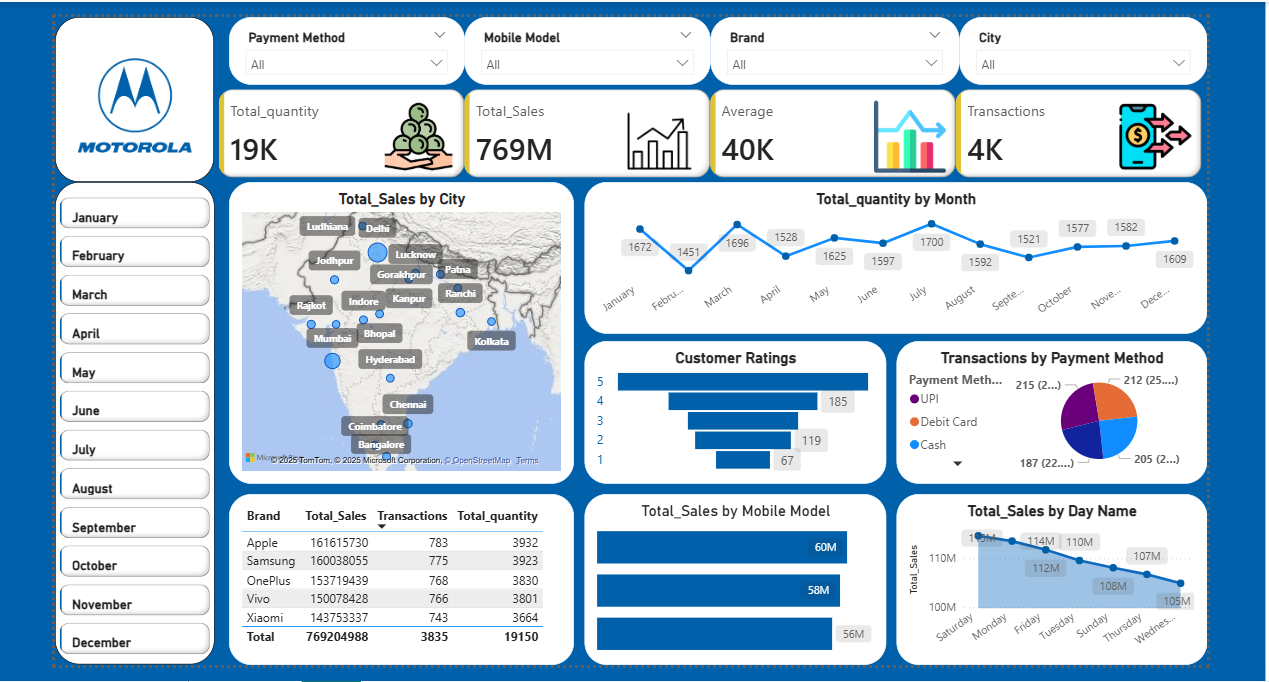

The page's visual inventory and layout, read from the dashboard file:
{"tool":"powerbi","page":{"name":"Page 1","canvas":[1280,720],"ordinal":0},"visuals":[{"type":"shape","box":[0,183.6,177,536.1],"z":0},{"type":"advancedSlicerVisual","fields":{"Values":["Sales_data.Date.Variation.Date Hierarchy.Month"]},"box":[0,195.1,177,524.6],"z":1000},{"type":"shape","box":[0,0,176.7,183.3],"z":2000},{"type":"image","box":[18.3,13.3,140,170],"z":3000},{"type":"cardVisual","fields":{"Data":["Sales_data.Total_quantity","Sales_data.Total_sales","Sales_data.Average","Sales_data.Transactions"]},"box":[176.7,75,1103.3,108.3],"z":4000},{"type":"map","fields":{"Category":["Sales_data.City"],"Size":["Sales_data.Total_Sales"]},"box":[193.3,183.3,383.3,335],"z":4001},{"type":"lineChart","fields":{"Y":["Sales_data.Total_quantity"],"Category":["Sales_data.Date.Variation.Date Hierarchy.Month","Sales_data.Date.Variation.Date Hierarchy.Day"]},"box":[588.3,183.3,691.7,168.3],"z":4002},{"type":"clusteredBarChart","fields":{"Category":["Sales_data.Mobile Model"],"Y":["Sales_data.Total_Sales"]},"box":[588.3,530,335,190],"z":4003},{"type":"pieChart","fields":{"Category":["Sales_data.Payment Method"],"Y":["Sales_data.Transactions"]},"box":[935,360,345,158.3],"z":4004},{"type":"funnel","title":"Customer Ratings","fields":{"Y":["CountNonNull(Sales_data.Customer Ratings)"],"Category":["Sales_data.Customer Ratings"]},"box":[588.3,360,335,158.3],"z":4005},{"type":"areaChart","fields":{"Category":["Sales_data.Day Name"],"Y":["Sales_data.Total_Sales"]},"box":[935,530,345,190],"z":4006},{"type":"tableEx","fields":{"Values":["Sales_data.Brand","Sales_data.Total_Sales","Sales_data.Transactions","Sales_data.Total_quantity"]},"box":[193.3,530,383.3,190],"z":4007},{"type":"slicer","fields":{"Values":["Sales_data.Payment Method"]},"box":[193.3,0,261.7,75],"z":4008},{"type":"slicer","fields":{"Values":["Sales_data.Mobile Model"]},"box":[455,0,273.3,75],"z":4009},{"type":"slicer","fields":{"Values":["Sales_data.Brand"]},"box":[728.3,0,276.7,75],"z":4010},{"type":"slicer","fields":{"Values":["Sales_data.City"]},"box":[1005,0,275,75],"z":4011}]}

Visuals, with their boxes in screenshot pixels (x1, y1, x2, y2):
shape: bbox=(53, 178, 212, 661)
advancedSlicerVisual - Sales_data.Date.Variation.Date Hierarchy.Month: bbox=(53, 189, 212, 661)
shape: bbox=(53, 13, 212, 178)
image: bbox=(69, 25, 195, 178)
cardVisual - Sales_data.Total_quantity x Sales_data.Total_sales: bbox=(212, 81, 1204, 178)
map - Sales_data.City x Sales_data.Total_Sales: bbox=(227, 178, 571, 479)
lineChart - Sales_data.Total_quantity x Sales_data.Date.Variation.Date Hierarchy.Month: bbox=(582, 178, 1204, 329)
clusteredBarChart - Sales_data.Mobile Model x Sales_data.Total_Sales: bbox=(582, 490, 883, 661)
pieChart - Sales_data.Payment Method x Sales_data.Transactions: bbox=(894, 337, 1204, 479)
"Customer Ratings" funnel: bbox=(582, 337, 883, 479)
areaChart - Sales_data.Day Name x Sales_data.Total_Sales: bbox=(894, 490, 1204, 661)
tableEx - Sales_data.Brand x Sales_data.Total_Sales: bbox=(227, 490, 571, 661)
slicer - Sales_data.Payment Method: bbox=(227, 13, 462, 81)
slicer - Sales_data.Mobile Model: bbox=(462, 13, 708, 81)
slicer - Sales_data.Brand: bbox=(708, 13, 957, 81)
slicer - Sales_data.City: bbox=(957, 13, 1204, 81)
